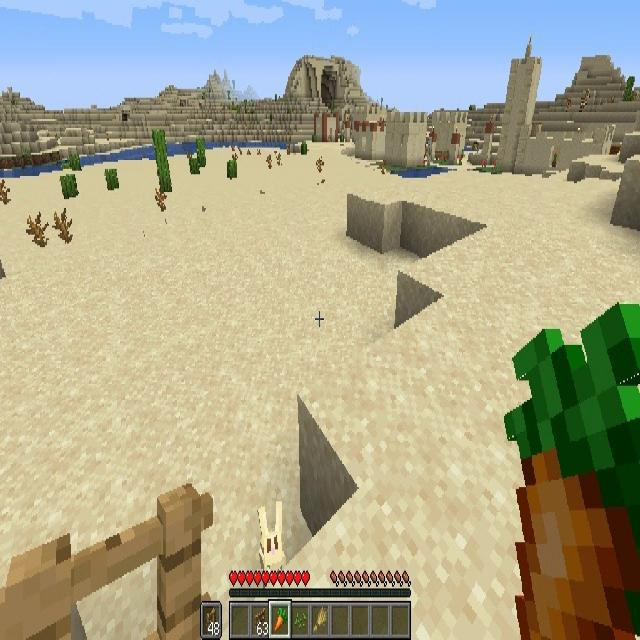rabbit: (257, 507, 287, 571)
